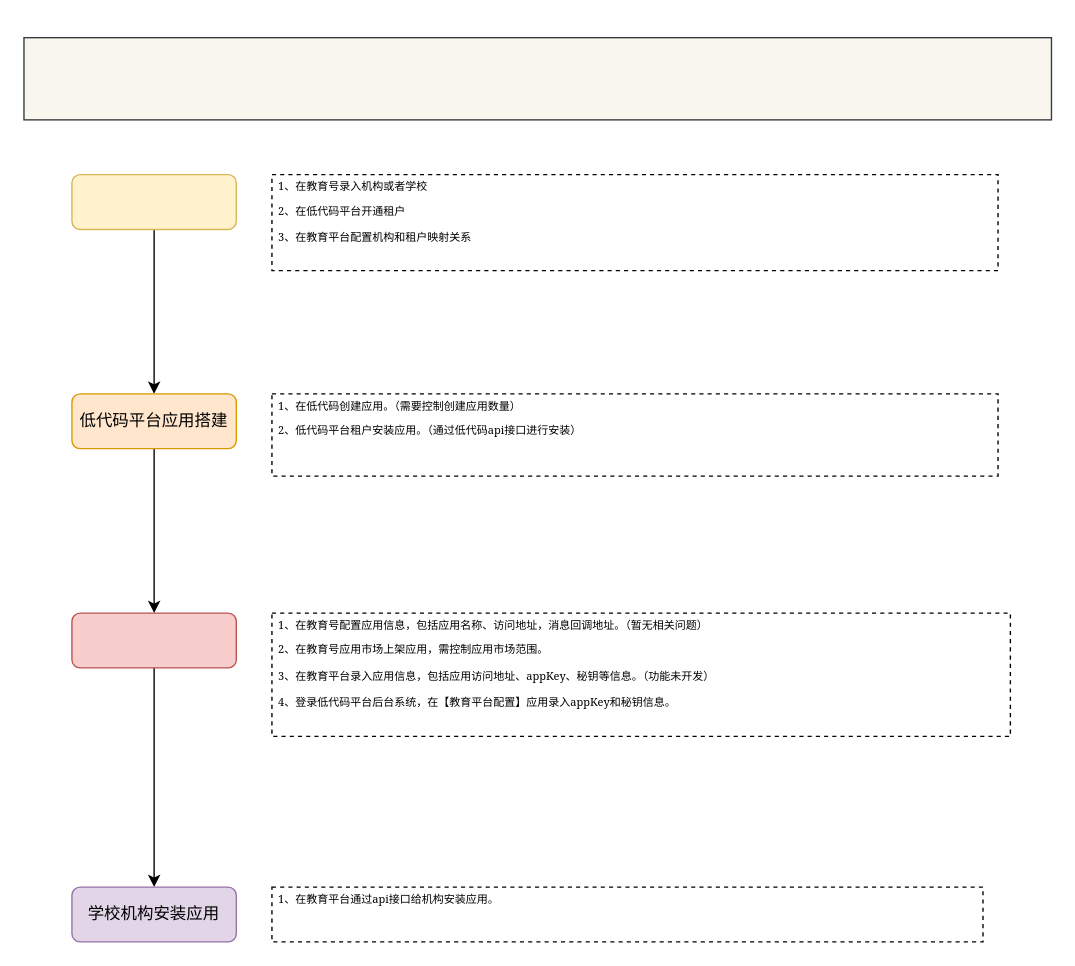
Image size: 1075x966. Some labels were removed from this diagram. Here are the shapes that lost their labels. From the top down, the box of each, then its label:
(23, 36, 1051, 120): 前提条件： 1、低代码平台与教育平台完成单点登录 2、
(71, 173, 236, 229): 机构租户映射
(71, 612, 236, 668): 教育号上架应用
